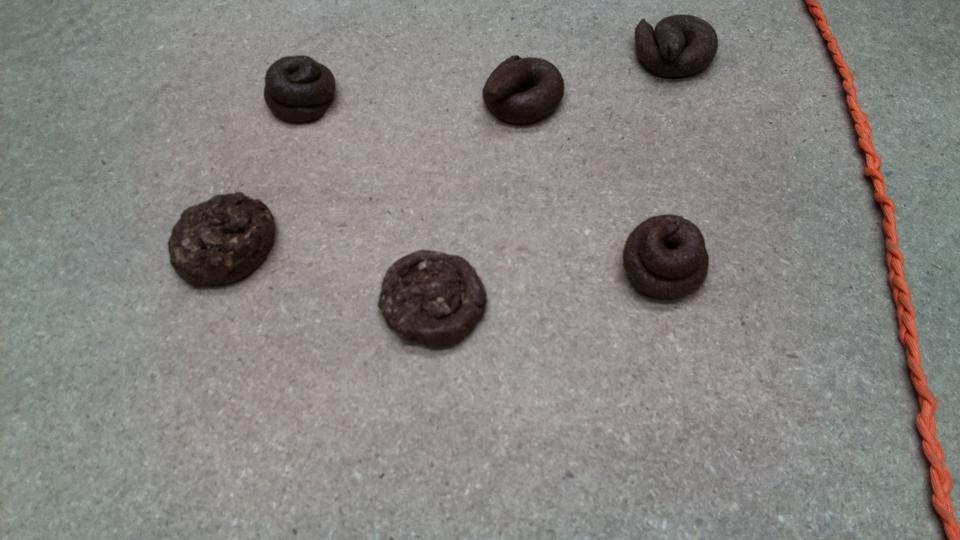poop: (374, 245, 493, 355), (164, 188, 282, 293), (618, 211, 714, 308), (630, 11, 723, 87), (479, 52, 567, 132), (261, 52, 340, 129)
rope: (815, 1, 959, 537)
